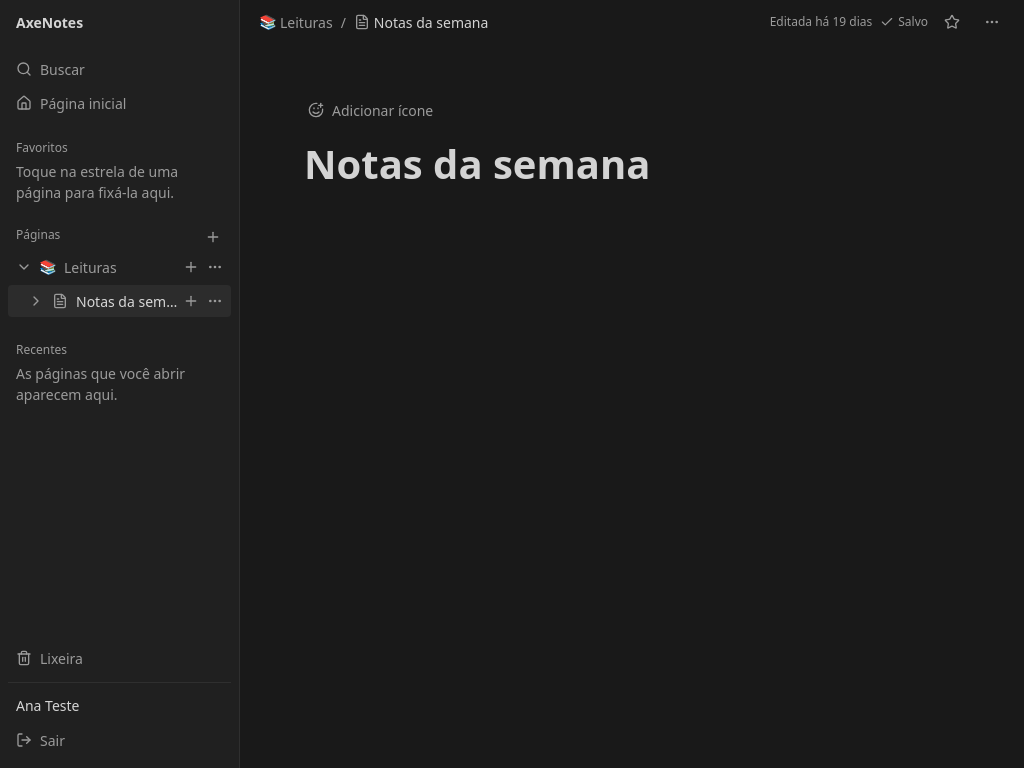
Test: título da página › saves what is pending when you leave the page
Type "?" into the text box named "Título da página". click: (632, 166)
box: x1=304 y1=140 x2=960 y2=191
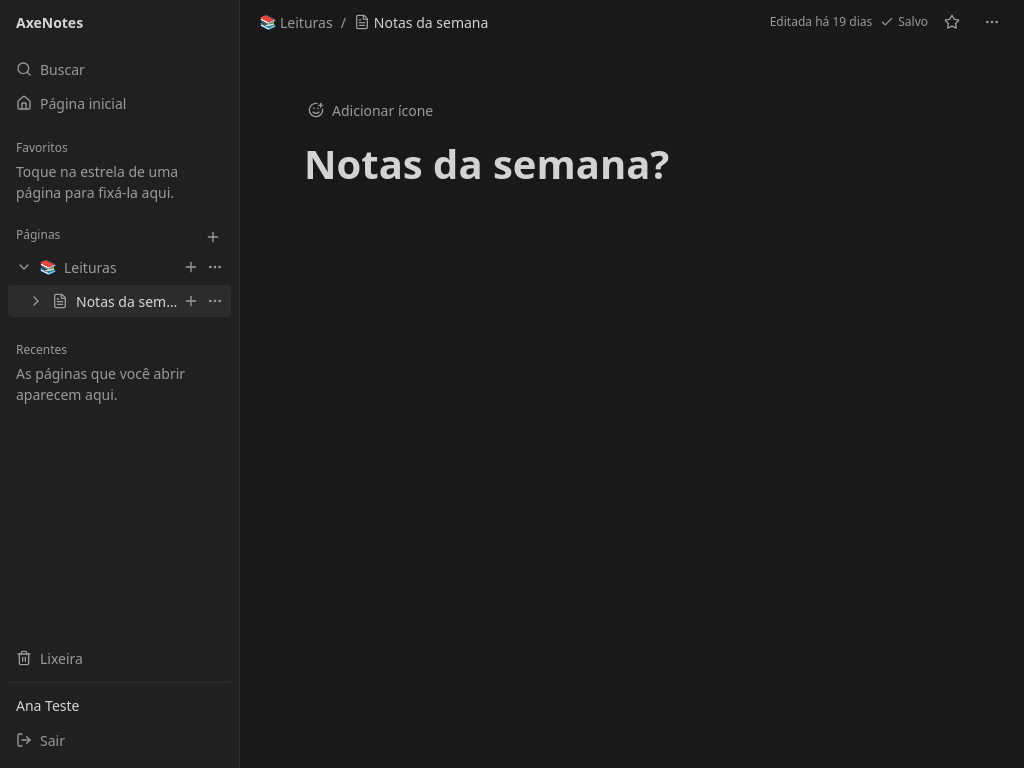
Click the link "📚 Leituras" in the row of "Editada há 19 dias". click: (296, 22)
box: x1=256 y1=6 x2=337 y2=38
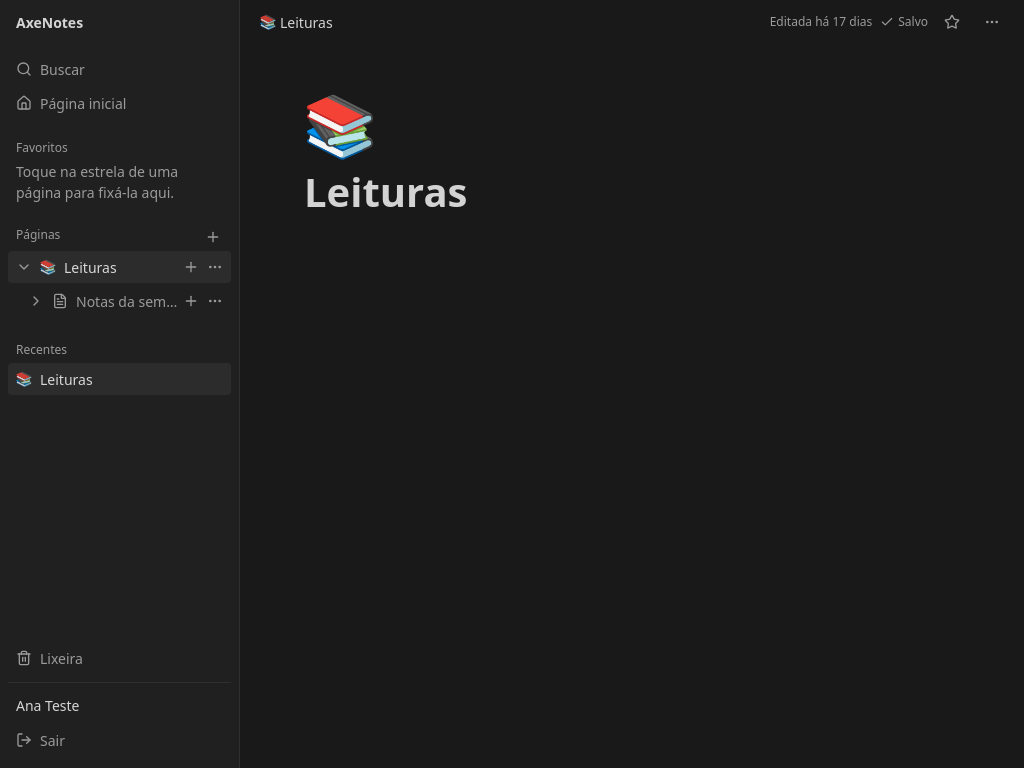
Expected: the text "Notas da semana?" is shown, x1=76 y1=290 x2=179 y2=312
